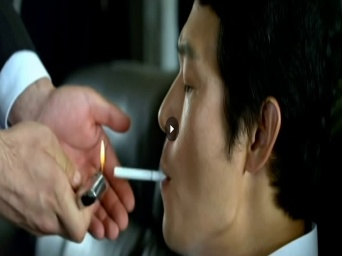smoke: (113, 165, 166, 182)
